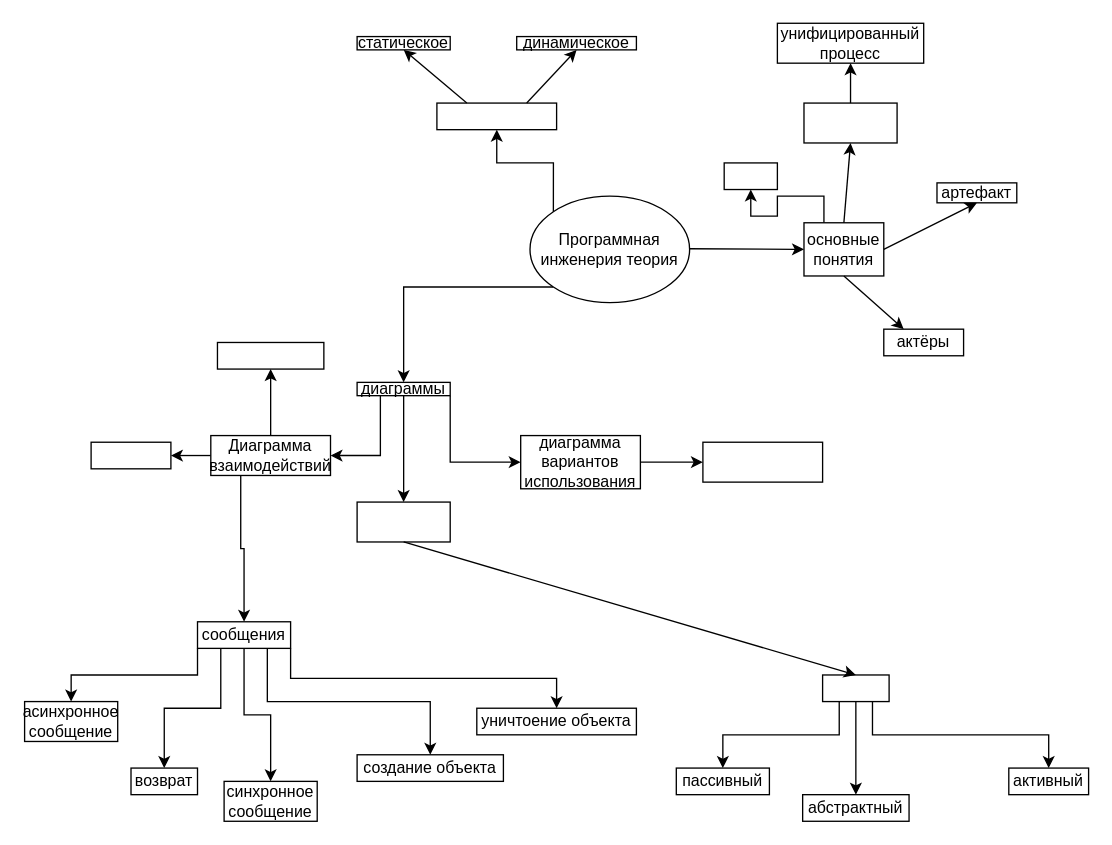
Some shapes in this 1112 by 845 pixel diagram are drawn without their labels. Each missing label, with the centre of its shape:
"варинат использования" goes at (x=762, y=461).
"диаграмма классов" goes at (x=403, y=521).
"классы" goes at (x=855, y=688).
"линия жизни" goes at (x=270, y=355).
"моделирование" goes at (x=496, y=116).
"модель" goes at (x=750, y=176).
"процесс разработки" goes at (x=850, y=122).
"участники" goes at (x=130, y=455).
